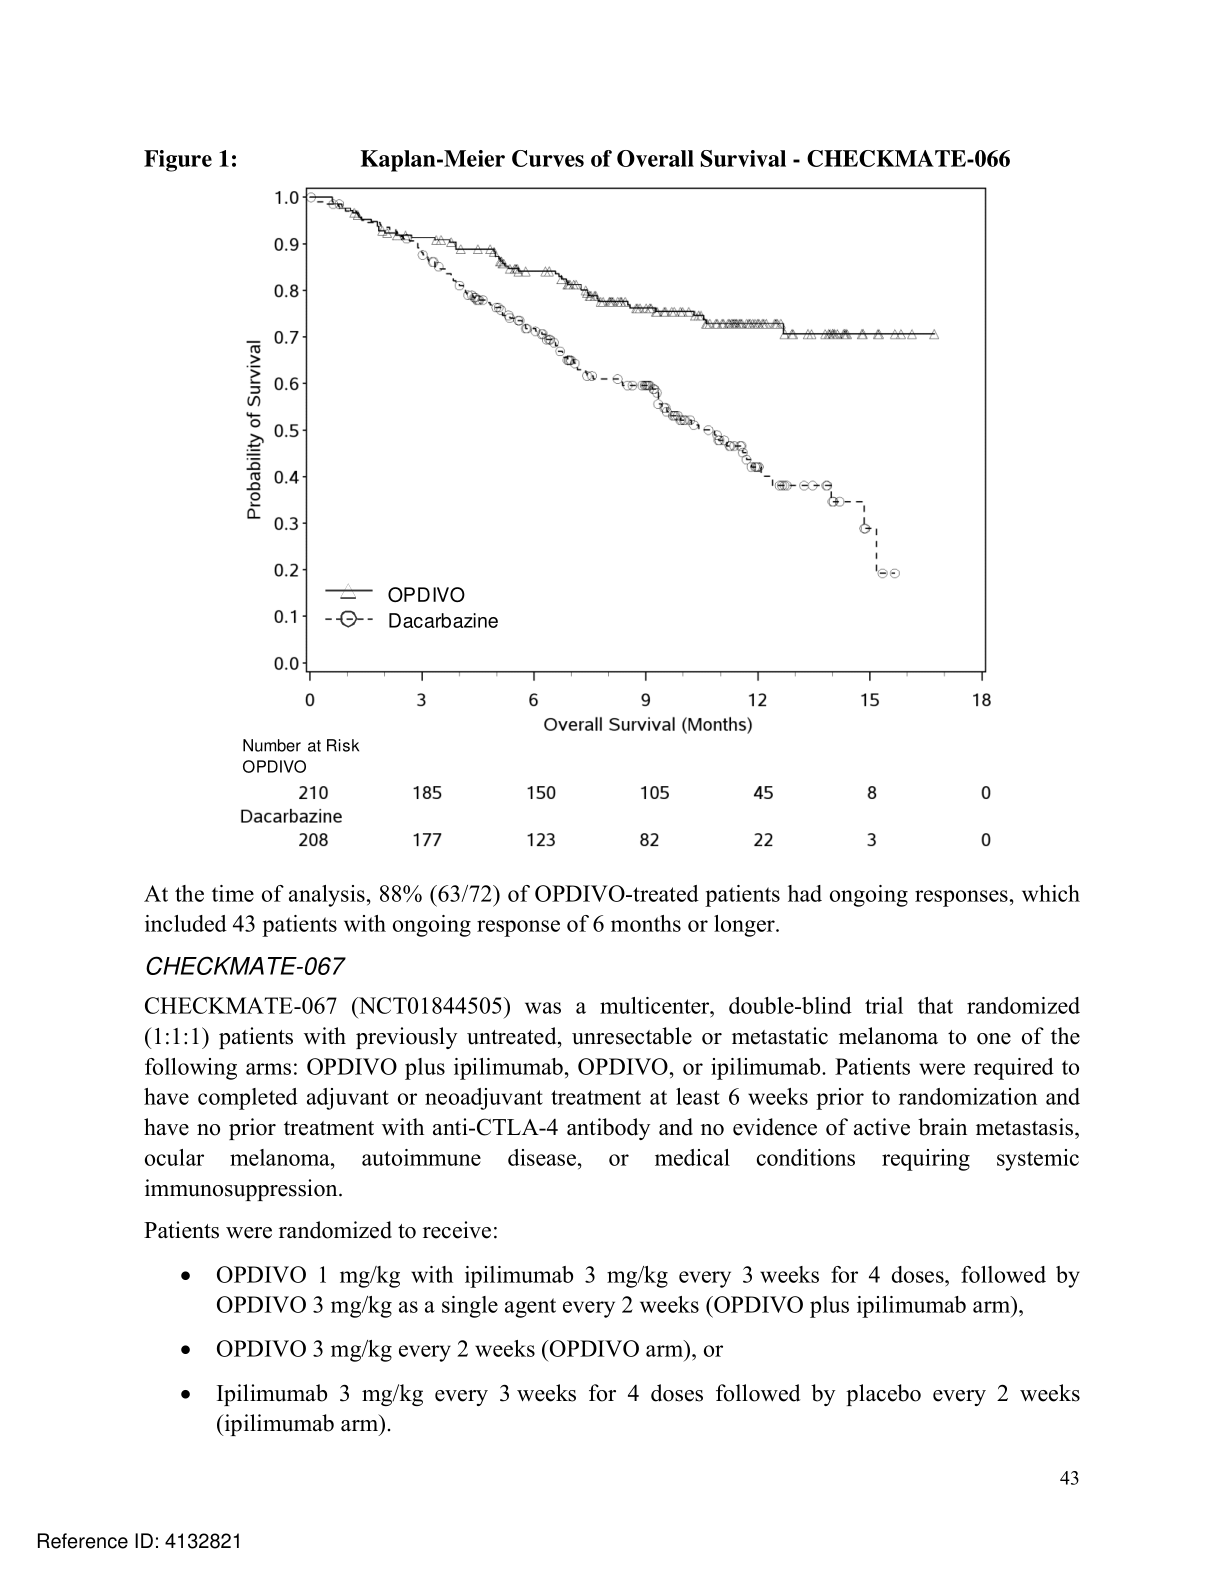nolines: (238, 755, 996, 849)
